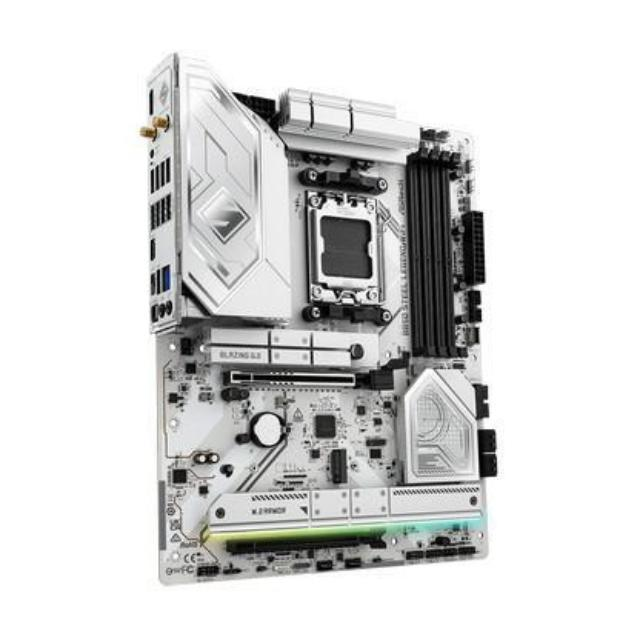Mainboard: (131, 39, 506, 587)
